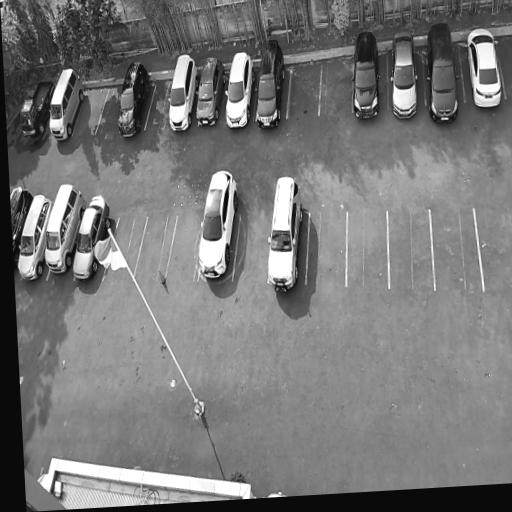Car: (196, 167, 242, 280), (265, 171, 304, 292), (45, 178, 88, 275), (70, 188, 113, 282), (424, 21, 462, 124), (17, 188, 55, 283), (462, 26, 505, 109), (254, 35, 287, 132), (48, 64, 87, 145), (116, 55, 153, 140), (167, 50, 201, 133), (389, 29, 420, 118), (351, 29, 380, 119), (20, 68, 55, 142), (225, 47, 256, 129), (195, 52, 227, 128), (10, 183, 35, 270)
Space Available: (431, 207, 483, 292), (388, 209, 435, 289), (347, 210, 388, 287), (306, 212, 347, 286), (475, 209, 512, 290), (233, 213, 271, 280), (135, 215, 177, 275), (166, 215, 202, 278), (114, 215, 147, 275), (319, 61, 353, 116), (288, 64, 322, 118), (73, 89, 109, 135), (145, 82, 172, 128), (96, 88, 123, 132)
